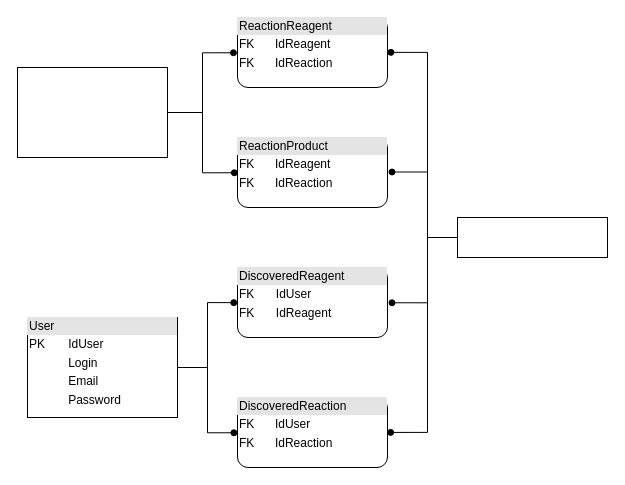
Image size: 625x485. Some labels were removed from this diagram. Each missing label, with the centre of its shape:
"Reaction PK IdReaction" goes at pixel 532 237.
"Reagent PK IdReagent Sign Name" goes at pixel 92 112.
